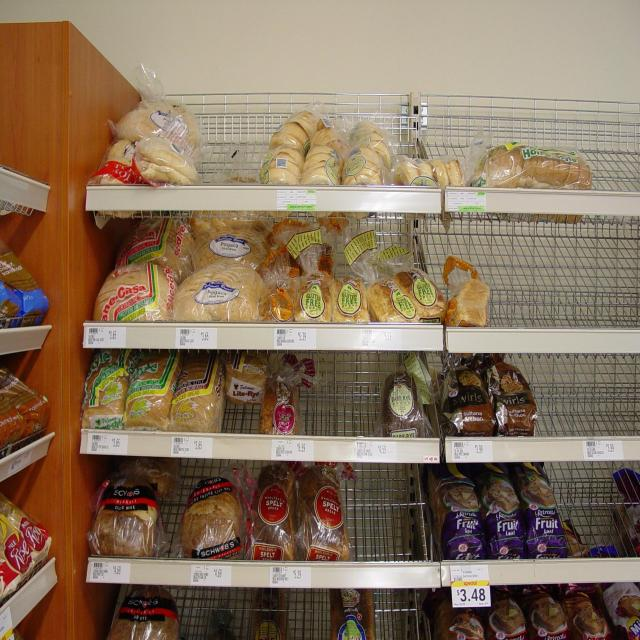void: (486, 220, 636, 326), (535, 354, 638, 435), (187, 589, 329, 640), (430, 96, 582, 142), (356, 466, 419, 558), (317, 357, 381, 435), (202, 104, 260, 184), (573, 461, 614, 554), (588, 119, 640, 192), (378, 591, 412, 634), (220, 400, 258, 432)
